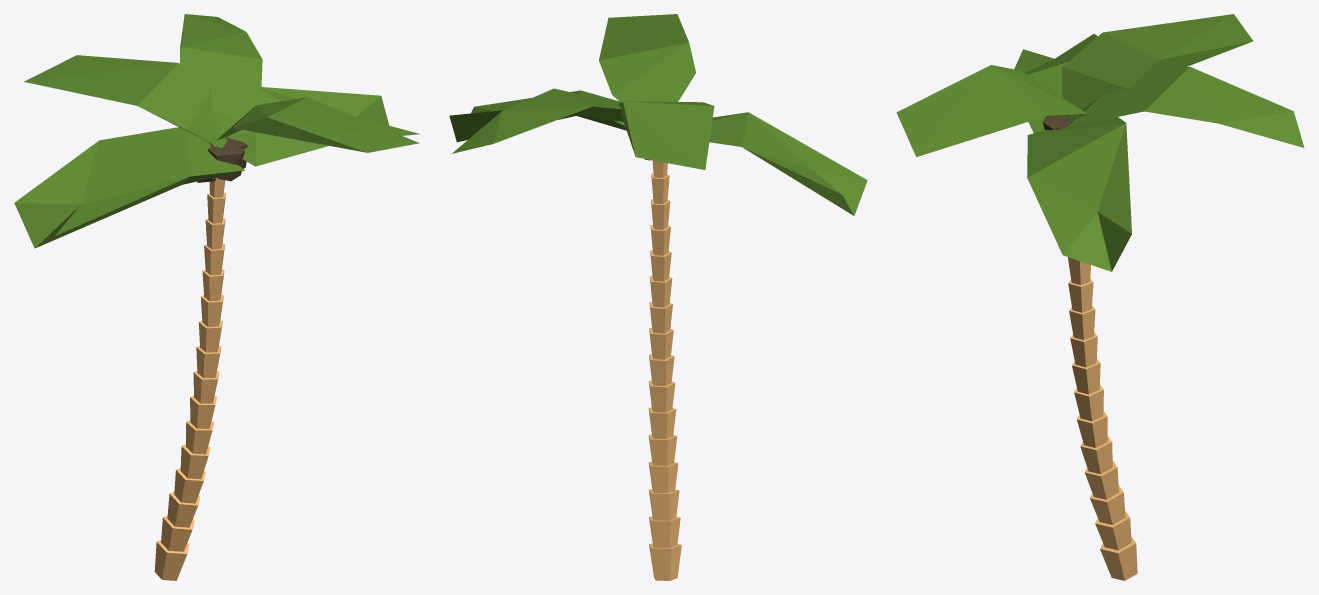
The model's file is palm_tree4.obj.
The picture shows the model from 3 angles, left to right: view 1: azimuth 30°, elevation 25°; view 2: azimuth 150°, elevation 25°; view 3: azimuth 270°, elevation 25°; orthographic projection. The views are drawn at different scales.
Visible parts, largest first — view 1: main_palm.005_leaf, main_palm.005_wood, main_palm.005_coconut; view 2: main_palm.005_leaf, main_palm.005_wood; view 3: main_palm.005_leaf, main_palm.005_wood.
Boxes of the visible parts, x1=… form: main_palm.005_leaf: x1=14, y1=14, x2=420, y2=248; main_palm.005_wood: x1=154, y1=144, x2=226, y2=580; main_palm.005_coconut: x1=197, y1=137, x2=247, y2=182; main_palm.005_leaf: x1=449, y1=14, x2=867, y2=215; main_palm.005_wood: x1=648, y1=160, x2=681, y2=580; main_palm.005_leaf: x1=896, y1=14, x2=1304, y2=271; main_palm.005_wood: x1=1068, y1=257, x2=1137, y2=580.
Bounding box in the file's own units: 10.47 × 12.7 × 8.83.
